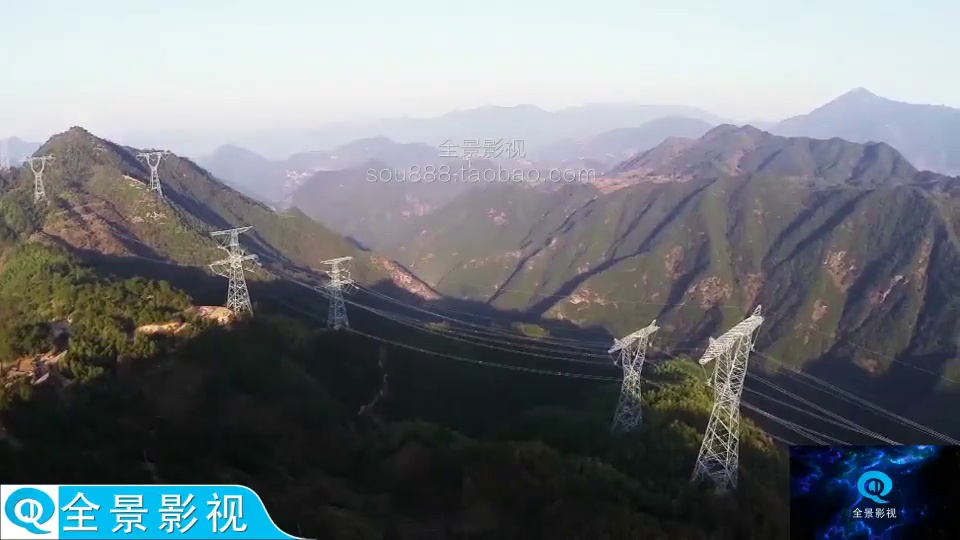tower_body: (686, 305, 769, 494), (602, 317, 659, 439), (196, 221, 265, 320), (317, 256, 365, 329)
tower_foot: (697, 431, 743, 490), (614, 395, 646, 432), (224, 288, 255, 315)
tower_head: (694, 307, 764, 401), (609, 322, 655, 375), (202, 225, 259, 240)
